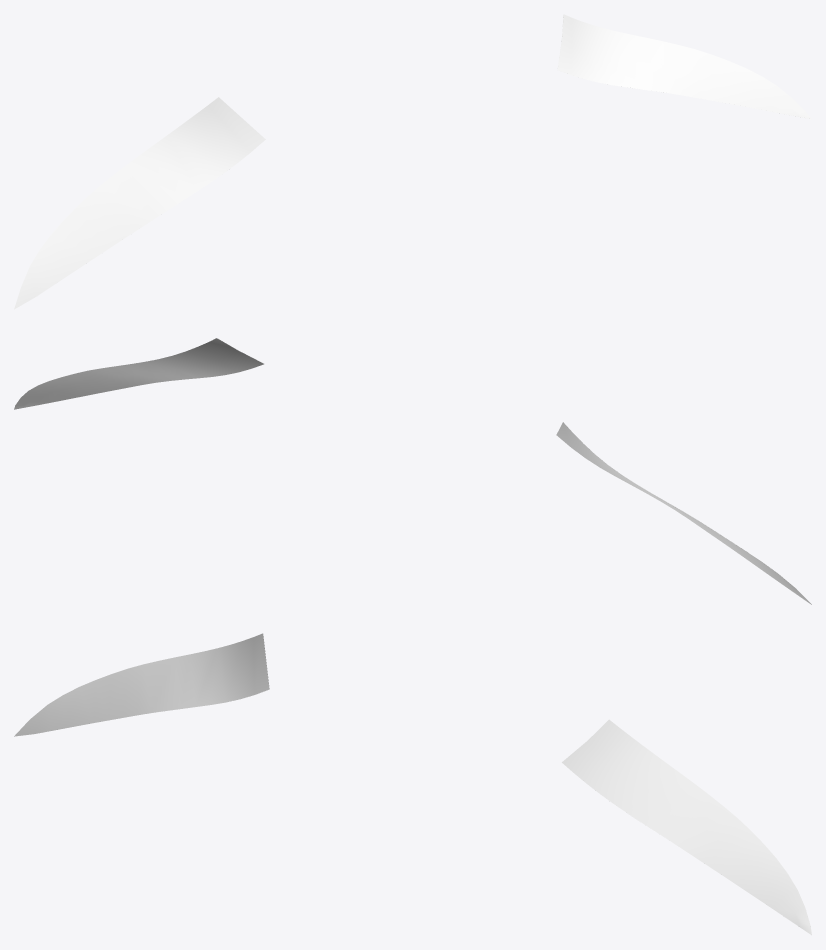
File: Jac_Flic_TOP_V2.glb
3 views of the same model, one above another, from view 1: azimuth 30°, elevation 25°; view 2: azimuth 150°, elevation 25°; view 3: azimuth 330°, elevation 25° (orthographic).
Visible parts, largest first — view 1: Jac_Flic_TOP.003; view 2: Jac_Flic_TOP.003; view 3: Jac_Flic_TOP.003.
Boxes of the visible parts, bbox=[...] form: Jac_Flic_TOP.003: bbox=[14, 14, 811, 309]; Jac_Flic_TOP.003: bbox=[14, 338, 811, 604]; Jac_Flic_TOP.003: bbox=[14, 633, 811, 935].
Bounding box in the file's own units: 0.6494 × 0.1123 × 0.0397.
Materials: 1 (1 with a texture image).
